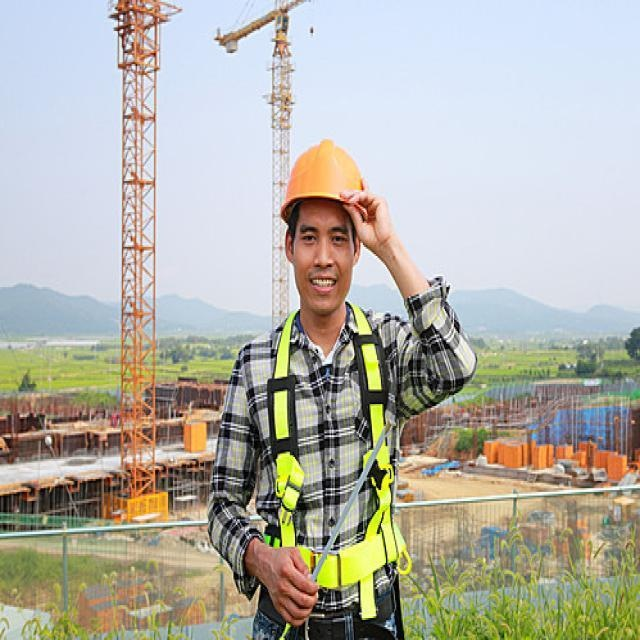Arnes_seguridad: (259, 295, 412, 626)
